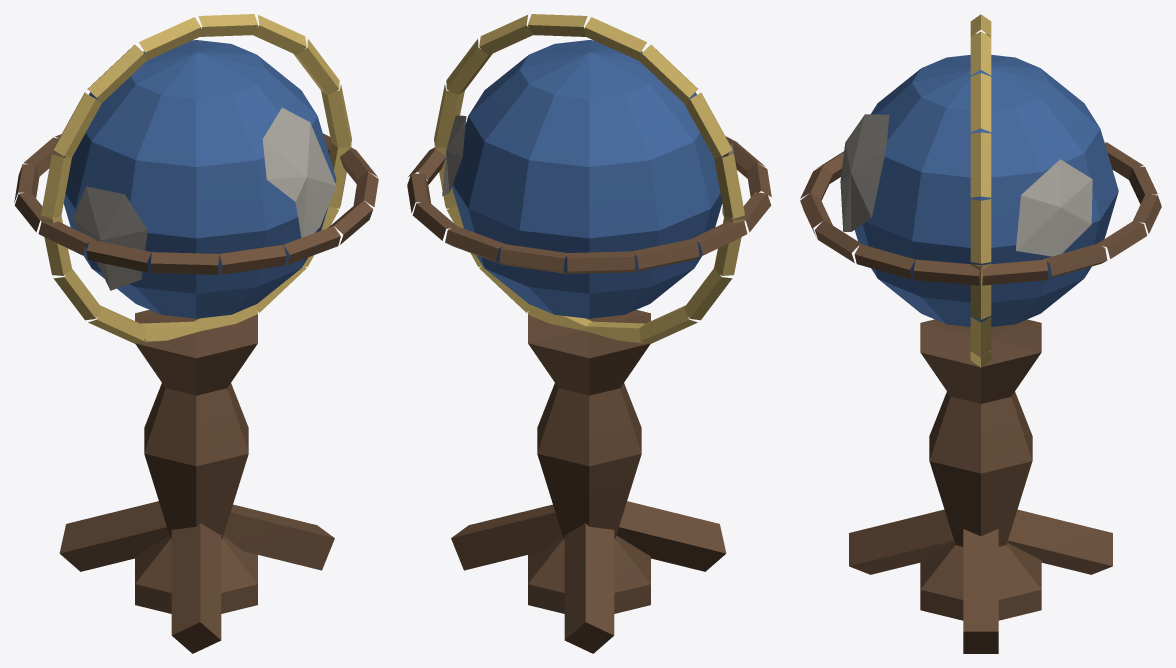
Rendered from palace_globe_stand.glb.
The picture shows the model from 3 angles, left to right: view 1: azimuth 30°, elevation 25°; view 2: azimuth 150°, elevation 25°; view 3: azimuth 270°, elevation 25°; orthographic projection.
Parts seen in each view (by area): view 1: palace_globe_stand; view 2: palace_globe_stand; view 3: palace_globe_stand.
Boxes of the visible parts, x1,y1,x2,y2 form: palace_globe_stand: [14, 14, 378, 653]; palace_globe_stand: [407, 14, 771, 653]; palace_globe_stand: [800, 14, 1161, 653].
Bounding box in the file's own units: 0.8266 × 1.45 × 0.8266.
